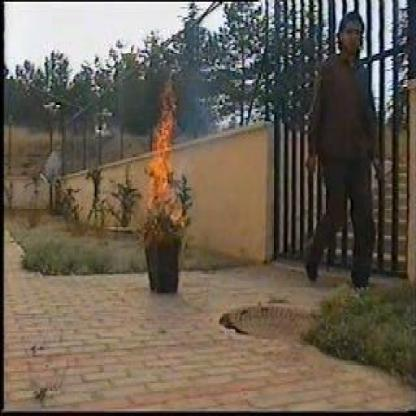foggia-v2-map80-epoch100 - v1 4323: (149, 89, 176, 204)
